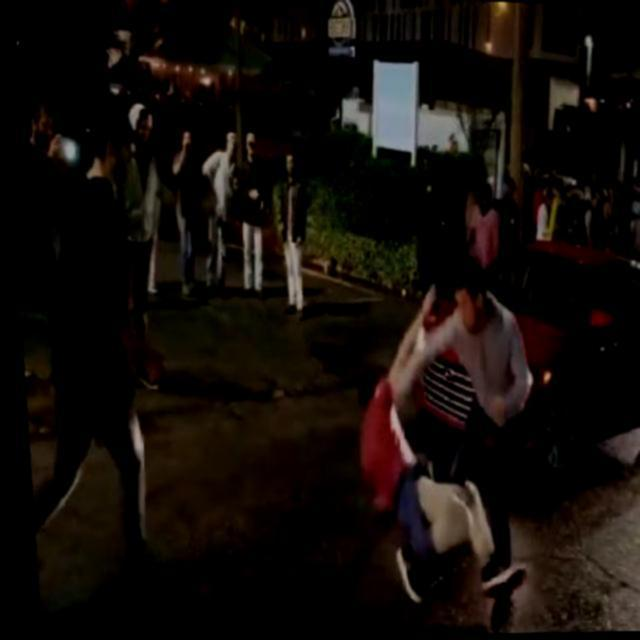fight: (334, 258, 540, 620)
